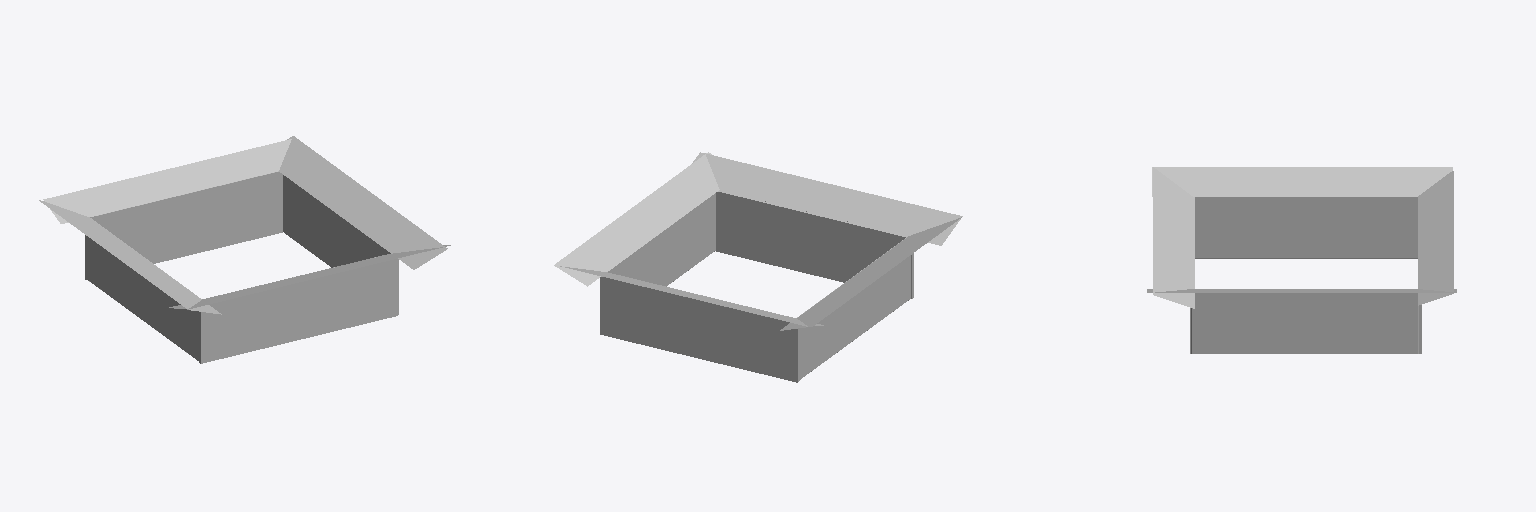
Rendered from quad_test.obj.
3 renders of one model, left to right at view 1: azimuth 30°, elevation 25°; view 2: azimuth 150°, elevation 25°; view 3: azimuth 270°, elevation 25°, orthographic.
Bounding box in the file's own units: 79.83 × 29.26 × 93.15.